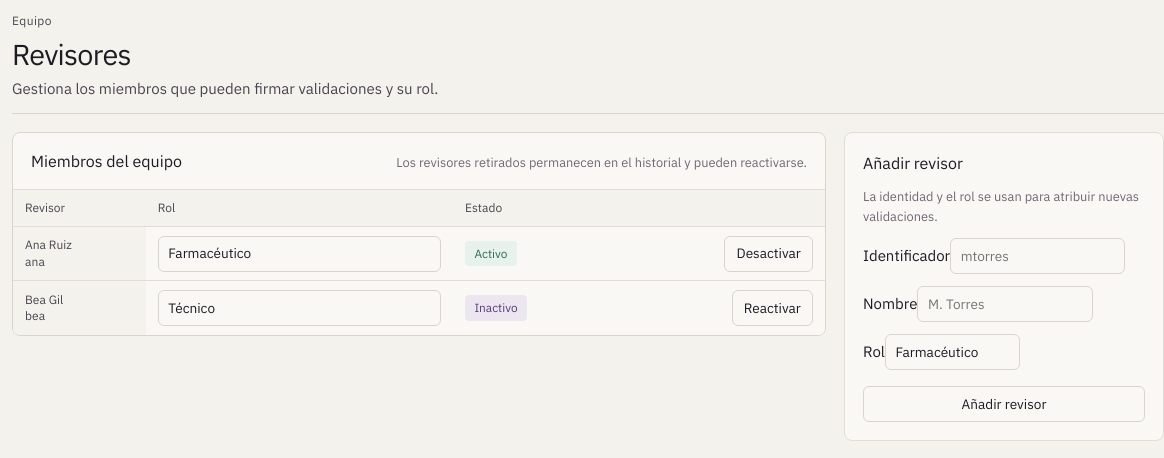
Test: muestra el motivo cuando el backend rechaza la operación
The image size is (1164, 458).
Check: the text "Ana Ruiz" is shown, box [25, 237, 72, 252]
Step 1. Click the button "Desactivar" → point(769, 254), box [724, 236, 813, 272]
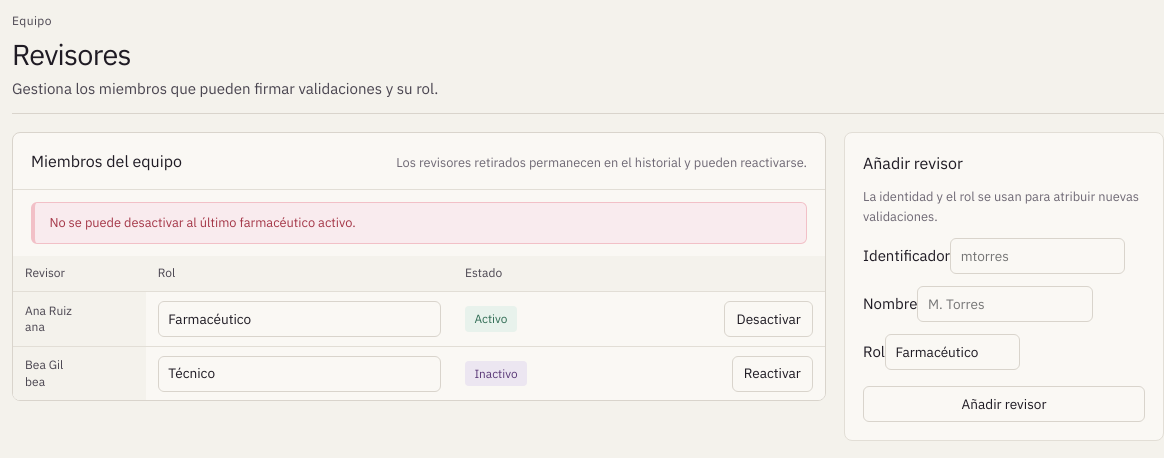
Check: the message shows "último farmacéutico", box [49, 214, 356, 231]
